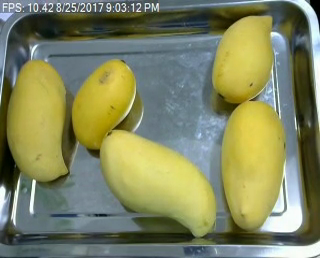Mango: (99, 127, 217, 239), (221, 101, 287, 232), (5, 57, 70, 184), (67, 57, 138, 151), (210, 14, 279, 105)
